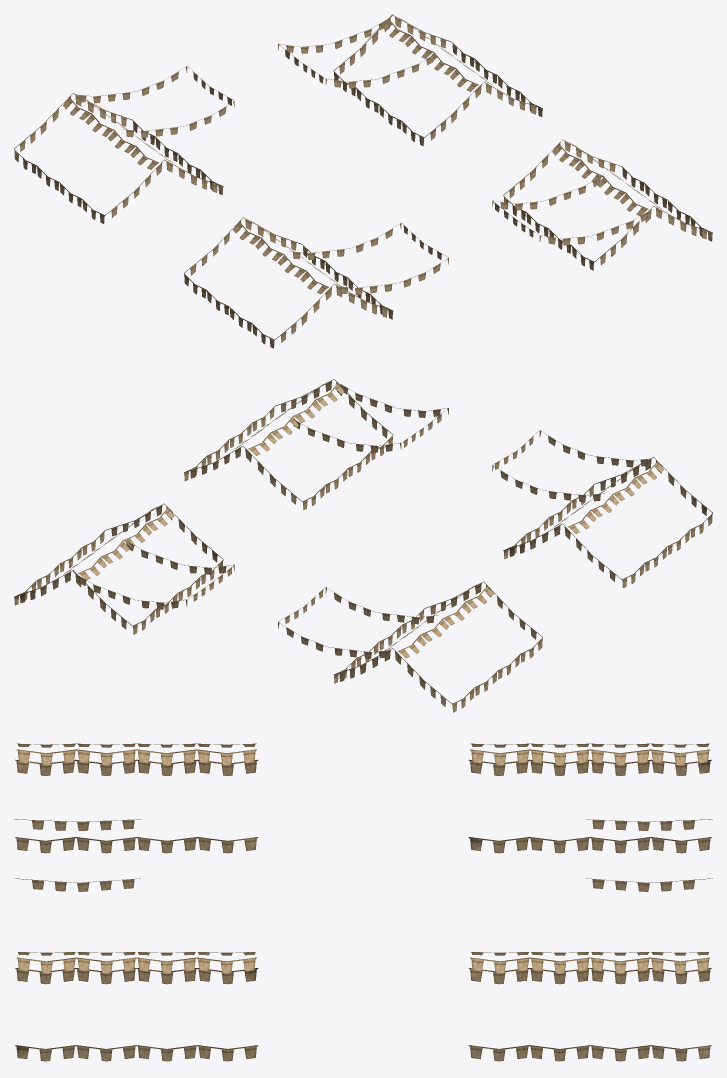
File: rome_camp_tentflaps.dae
The picture shows the model from 3 angles, top to bottom: view 1: azimuth 30°, elevation 25°; view 2: azimuth 150°, elevation 25°; view 3: azimuth 270°, elevation 25°; orthographic projection. The views are drawn at different scales.
Visible parts, largest first — view 1: rome_sb_tent_transp; view 2: rome_sb_tent_transp; view 3: rome_sb_tent_transp.
Boxes of the visible parts, left/top/right/bottom form: rome_sb_tent_transp: left=14, top=14, right=712, bottom=348; rome_sb_tent_transp: left=14, top=379, right=712, bottom=712; rome_sb_tent_transp: left=14, top=743, right=712, bottom=1061.
Bounding box in the file's own units: 19.89 × 2.43 × 20.59.
